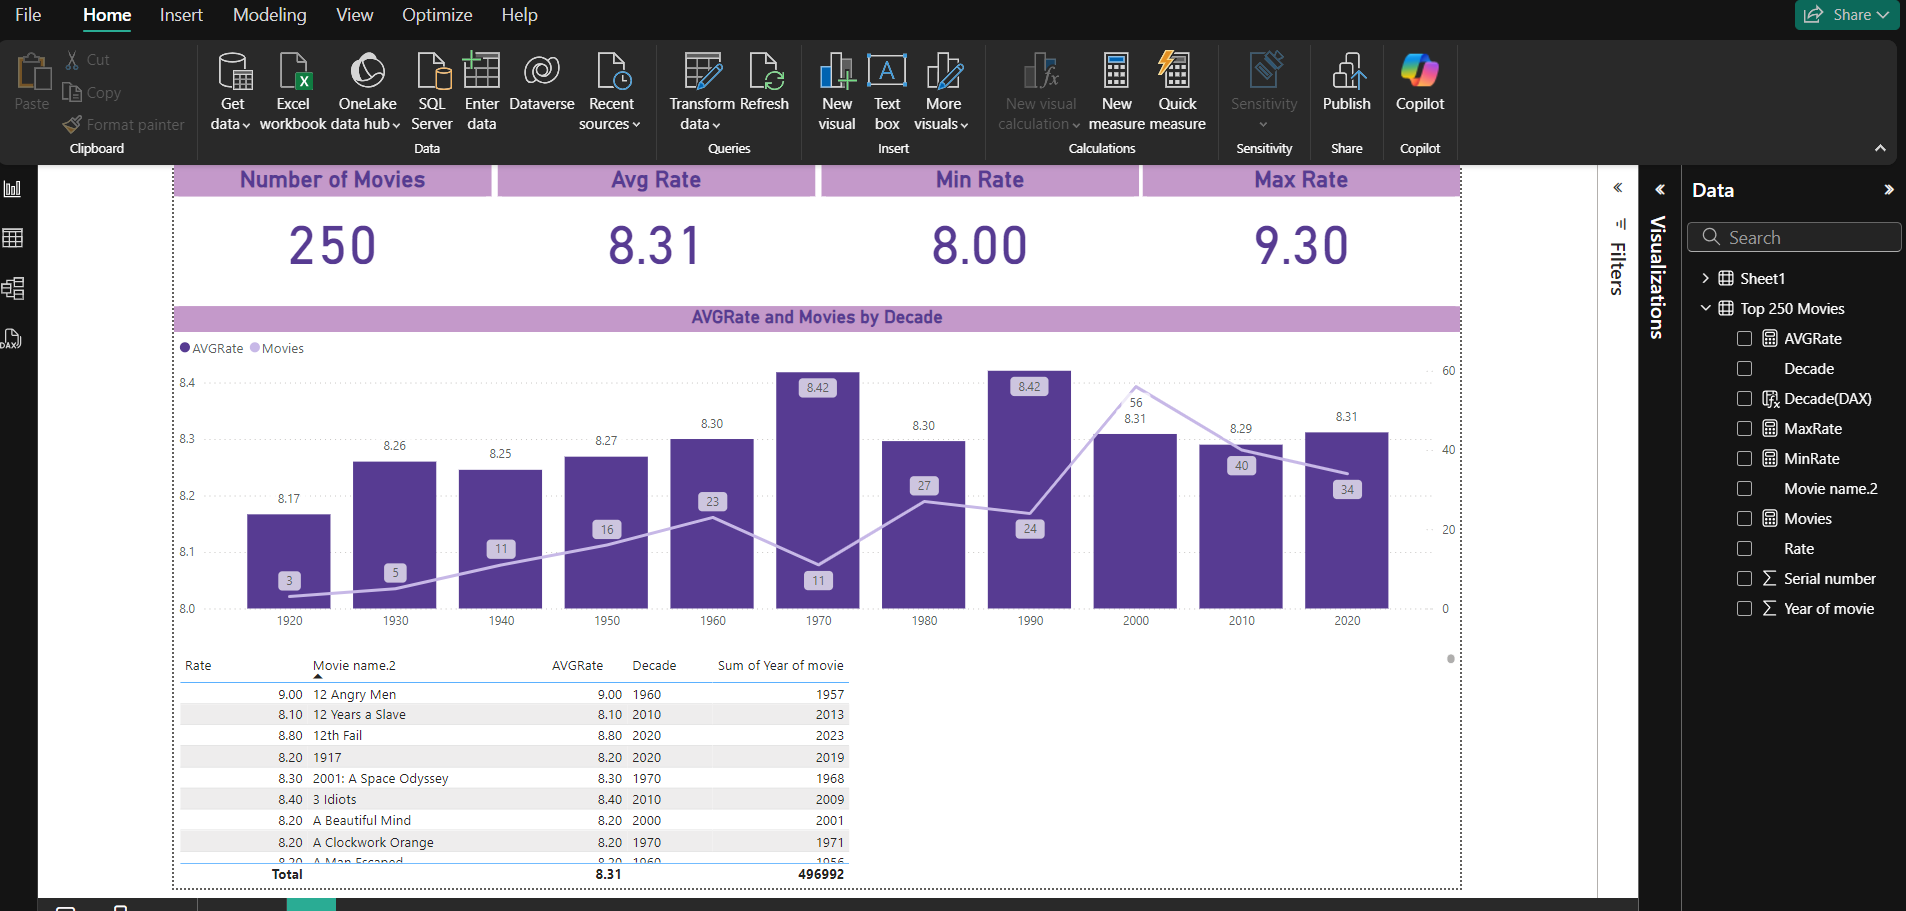

What the dashboard file says about the page in this screenshot:
{"tool":"powerbi","page":{"name":"Step0","canvas":[1280,720],"ordinal":0},"visuals":[{"type":"card","title":"Number of Movies","fields":{"Values":["Top 250 Movies.Movies"]},"box":[0,0,315.6,119.4],"z":0},{"type":"card","title":"Avg Rate","fields":{"Values":["Top 250 Movies.AVGRate"]},"box":[322.5,0,315.6,119.4],"z":1},{"type":"card","title":"Min Rate","fields":{"Values":["Top 250 Movies.MinRate"]},"box":[644.9,0,315.6,119.4],"z":2},{"type":"card","title":"Max Rate","fields":{"Values":["Top 250 Movies.MaxRate"]},"box":[964.7,0,315.6,119.4],"z":3},{"type":"lineStackedColumnComboChart","fields":{"Category":["Top 250 Movies.Decade"],"Y":["Top 250 Movies.AVGRate"],"Y2":["Top 250 Movies.Movies"]},"box":[0,140,1280.3,330.7],"z":4},{"type":"tableEx","fields":{"Values":["Top 250 Movies.Rate","Top 250 Movies.Movie name.2","Top 250 Movies.AVGRate","Top 250 Movies.Decade","Sum(Top 250 Movies.Year of movie)"]},"box":[0,481,1280,239],"z":5}]}

Visuals, with their boxes in screenshot pixels (x1, y1, x2, y2):
"Number of Movies" card: Rect(30, 5, 425, 154)
"Avg Rate" card: Rect(433, 5, 828, 154)
"Min Rate" card: Rect(837, 5, 1231, 154)
"Max Rate" card: Rect(1237, 5, 1631, 154)
lineStackedColumnComboChart - Top 250 Movies.Decade x Top 250 Movies.AVGRate: Rect(30, 180, 1631, 594)
tableEx - Top 250 Movies.Rate x Top 250 Movies.Movie name.2: Rect(30, 607, 1631, 906)
